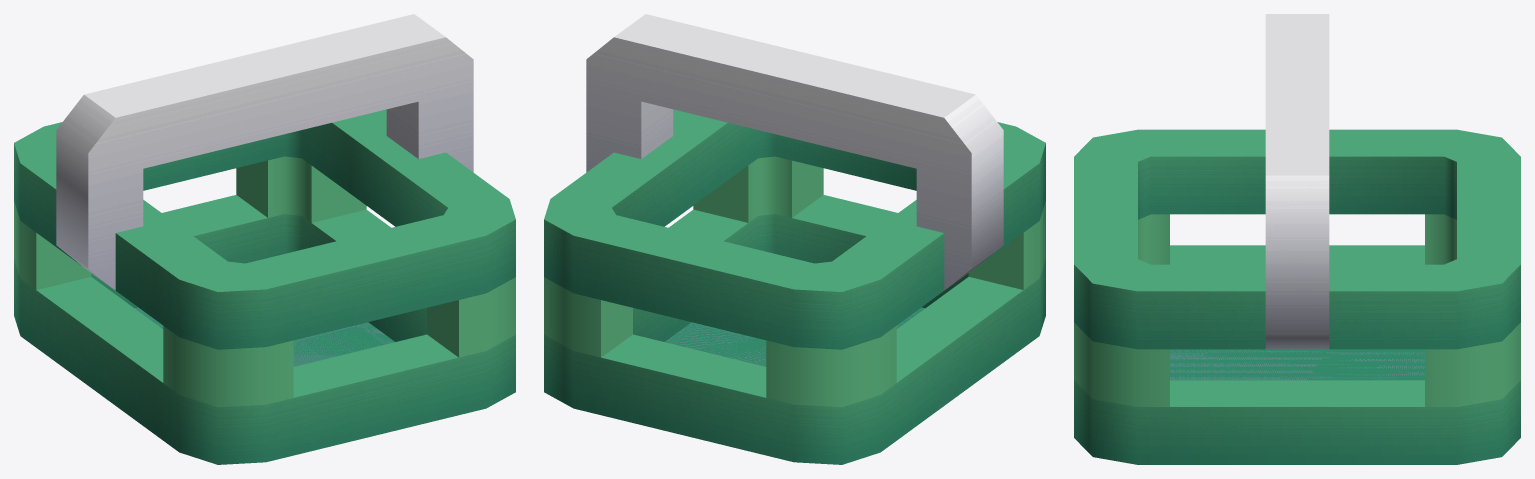
Rendered from basket.glb.
3 renders of one model, left to right at view 1: azimuth 30°, elevation 25°; view 2: azimuth 150°, elevation 25°; view 3: azimuth 270°, elevation 25°, orthographic.
Visible parts, largest first — view 1: shopping-basket; view 2: shopping-basket; view 3: shopping-basket.
Part boxes in pixels (x1,y1,x2,y2): shopping-basket: (14,14,515,464); shopping-basket: (544,14,1045,464); shopping-basket: (1074,14,1520,464).
Bounding box in the file's own units: 0.35 × 0.25 × 0.35.
Materials: 1 (1 with a texture image).
